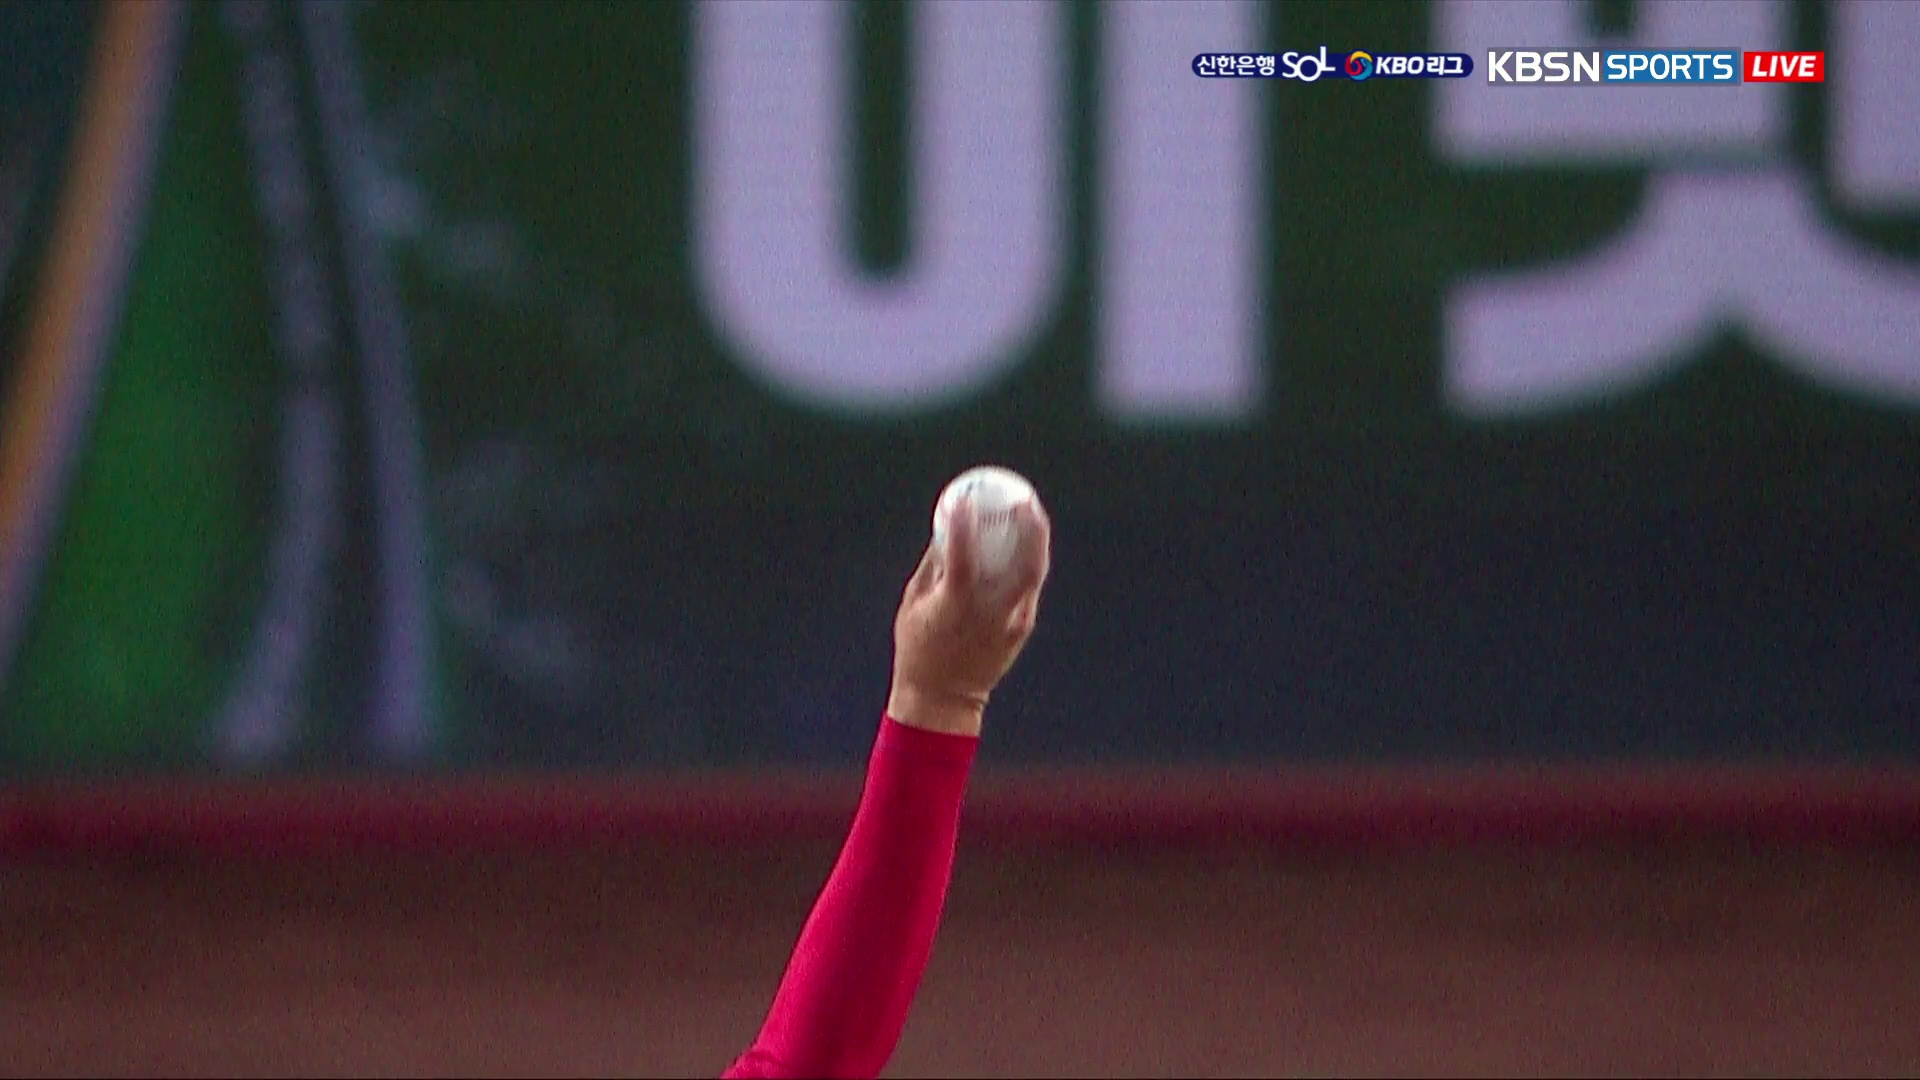zoomin_hand: (699, 456, 1069, 1080)
